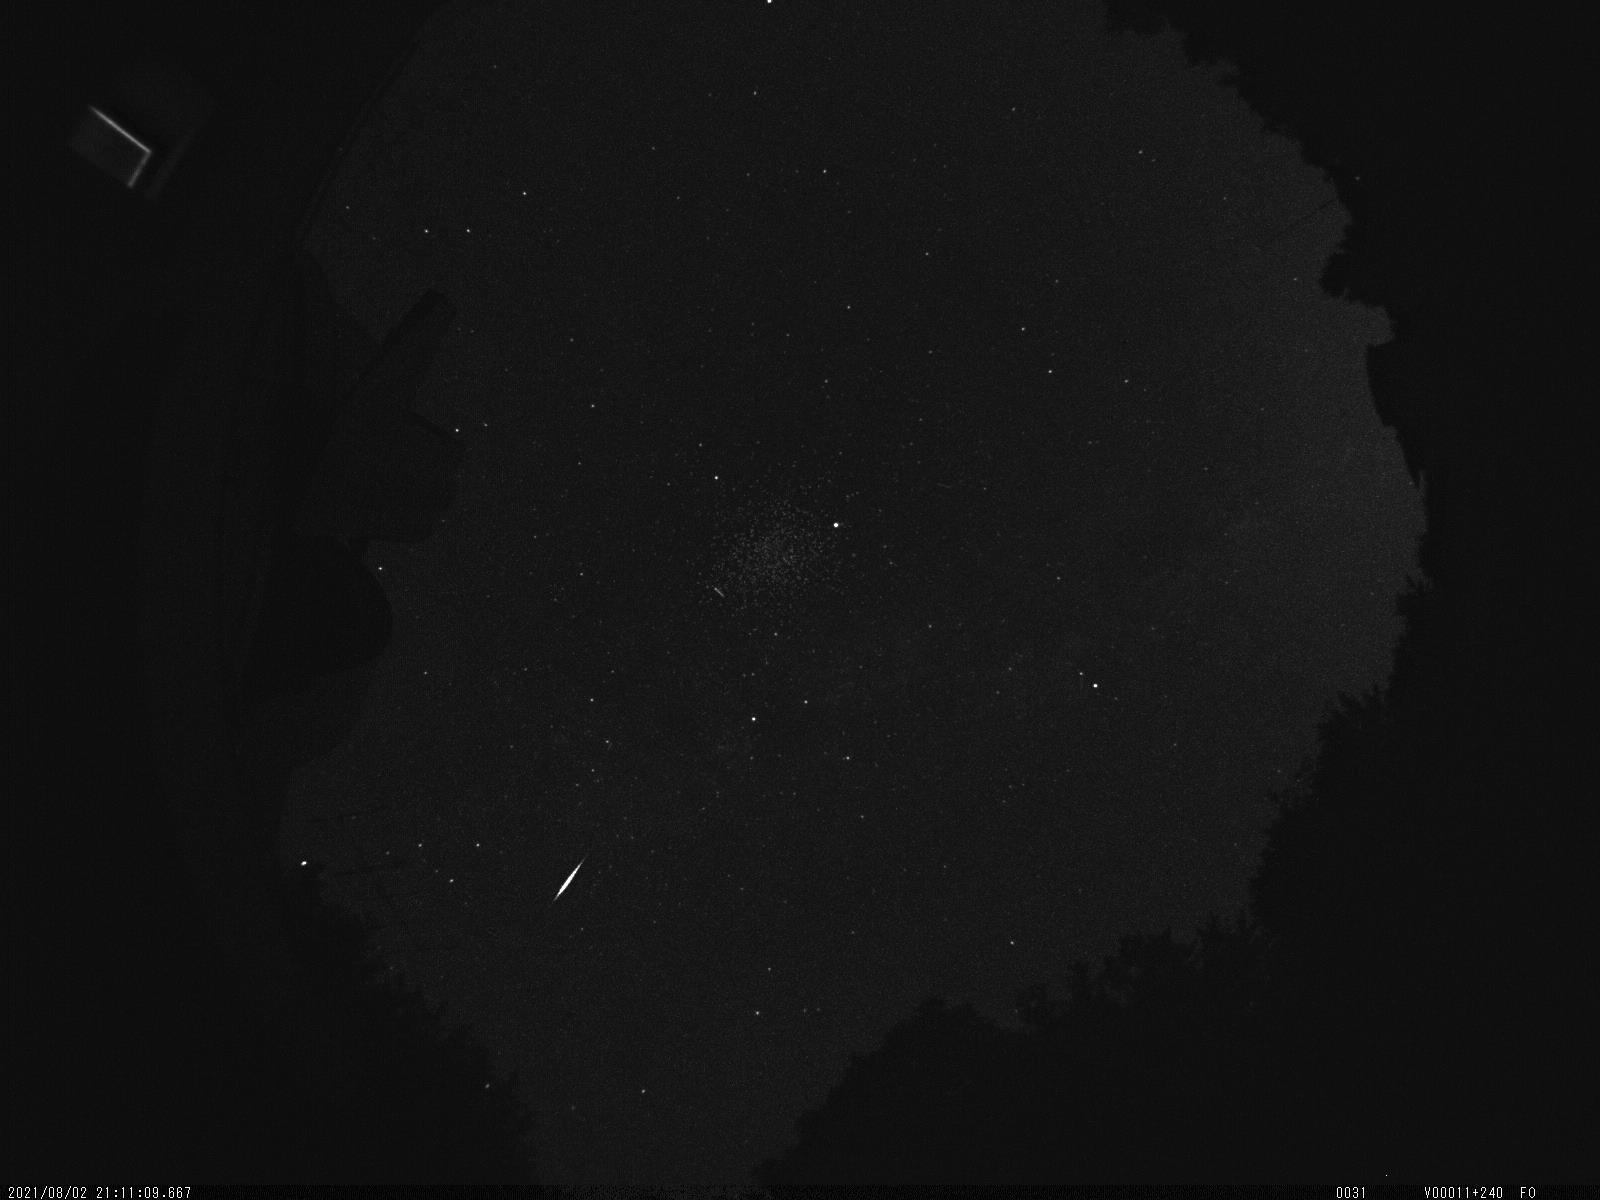Meteor: (545, 852, 590, 921)
